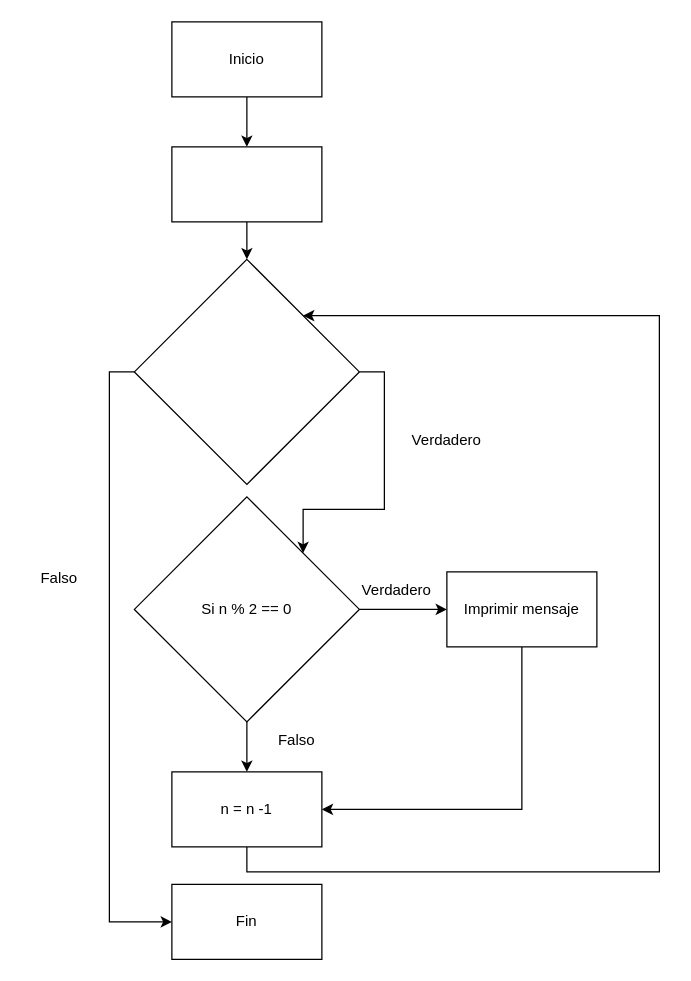
This 691x981 diagram has some shape labels left out. The centre of each missing label's shape, as x and y in pixels:
"Leer n" belongs at point 246,184.
"Mientras n >= 2" belongs at point 246,371.
